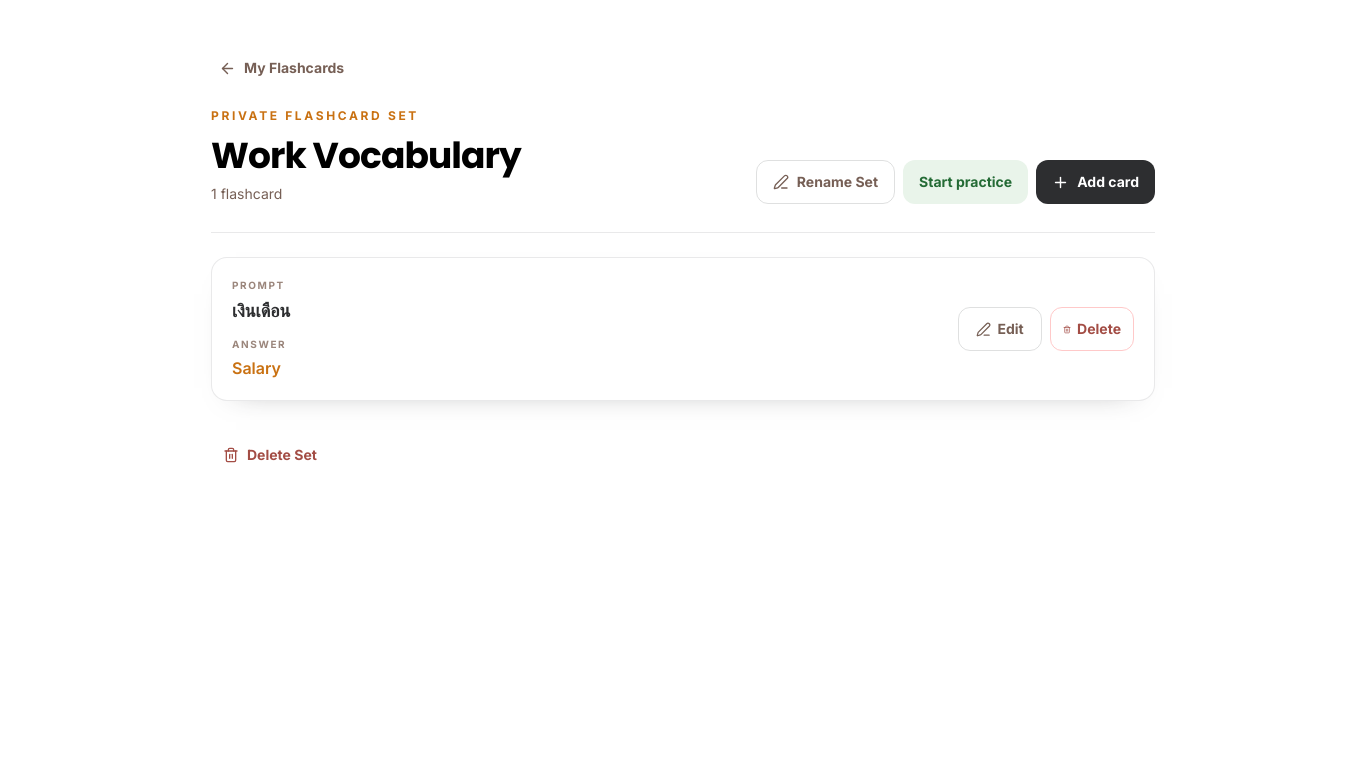
Test case: personal deck card manager › shows a failed card request without discarding the loaded deck
Expected: the heading "เงินเดือน" is shown, [232,297,290,325]
Click the button "Add card" at coordinates (1096, 182), box [1036,160,1155,204]
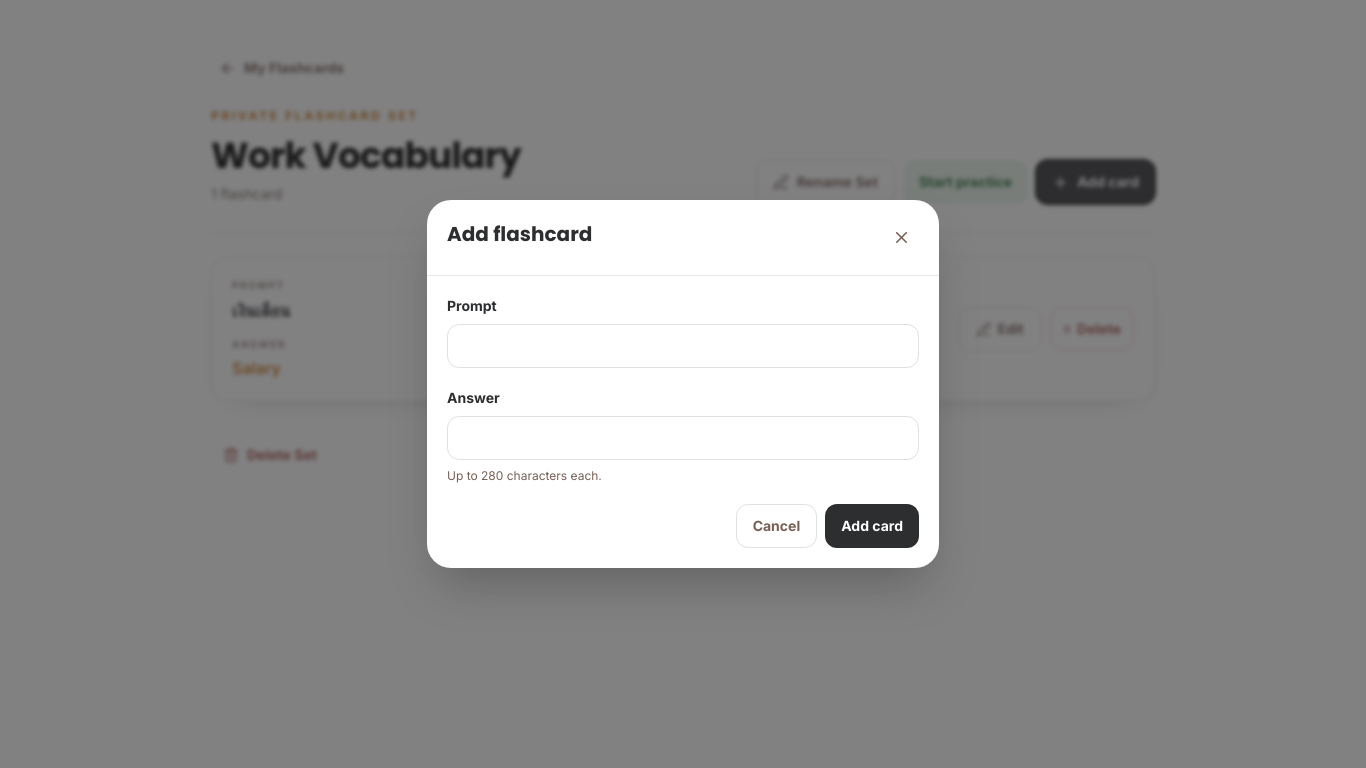
Type "Test" into the field labelled "Prompt" at coordinates (683, 346), box [447,324,919,368]
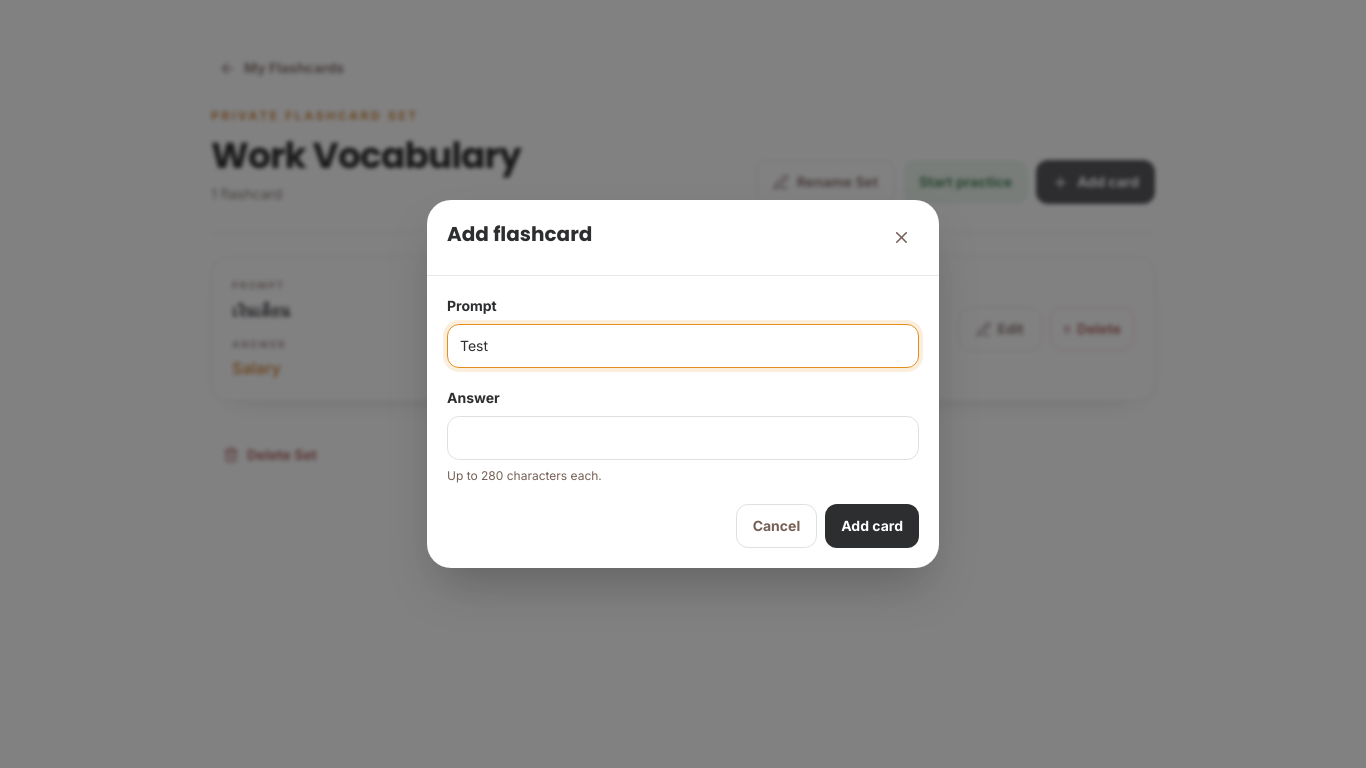
Type "Test answer" into the field labelled "Answer" at coordinates (683, 438), box [447,416,919,460]
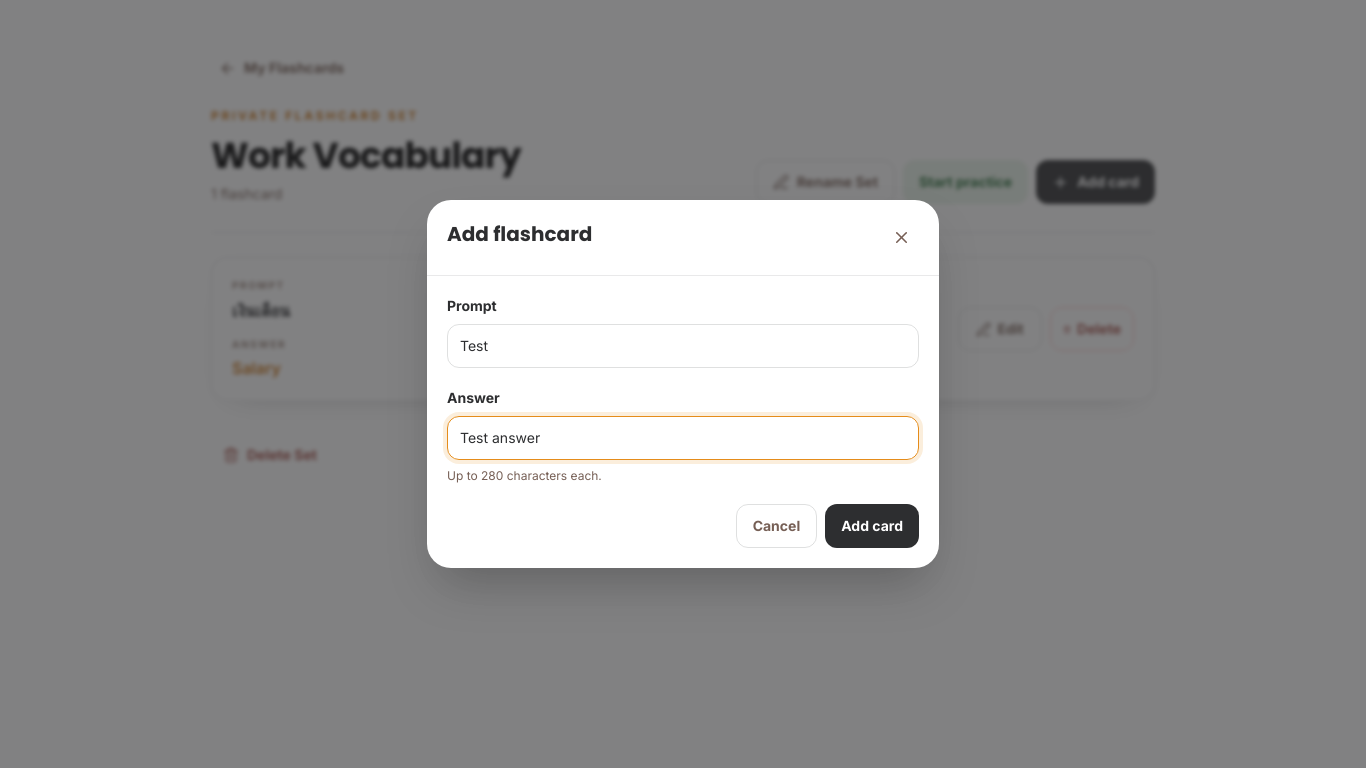
Click the button "Add card" at coordinates (872, 526), box [825,504,919,548]
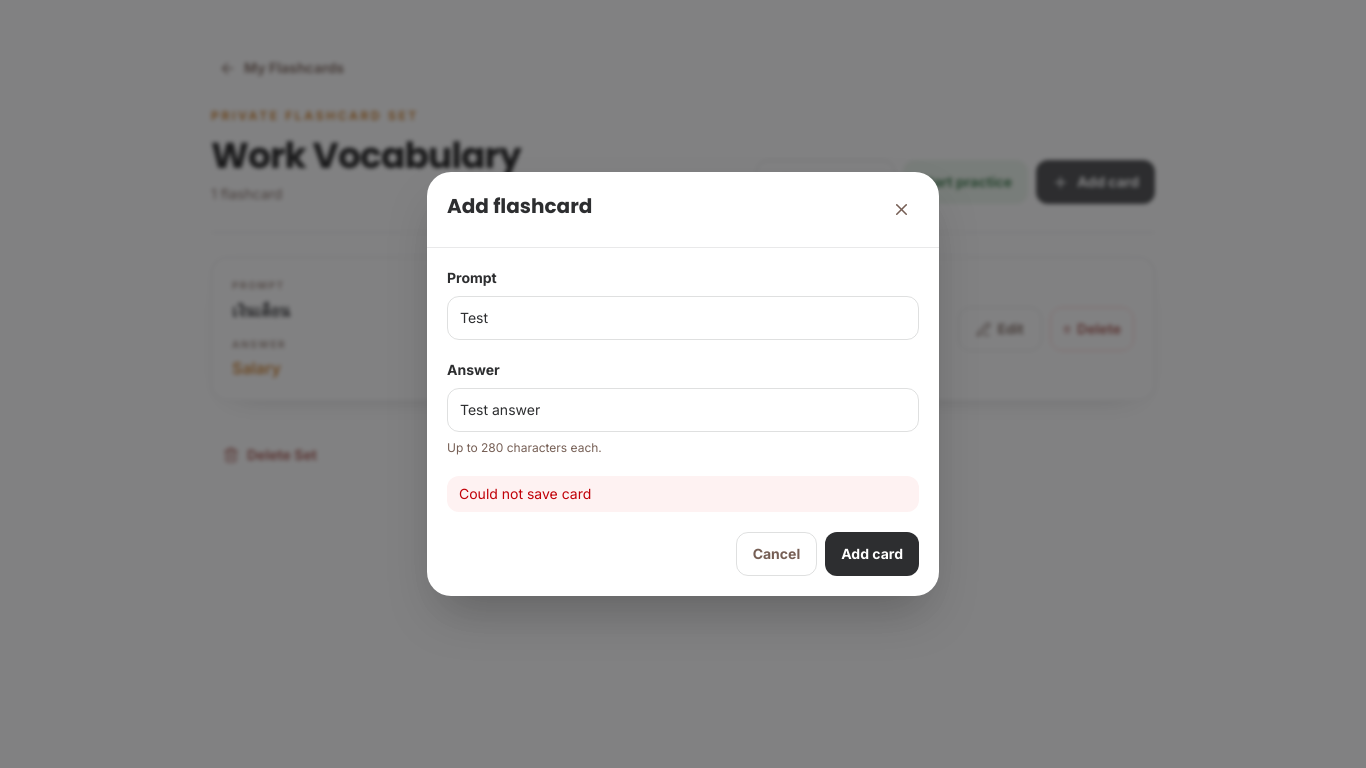
Expected: the heading "เงินเดือน" is shown, [232,297,290,325]
Expected: the message reads "Could not save card", [459,485,591,502]
